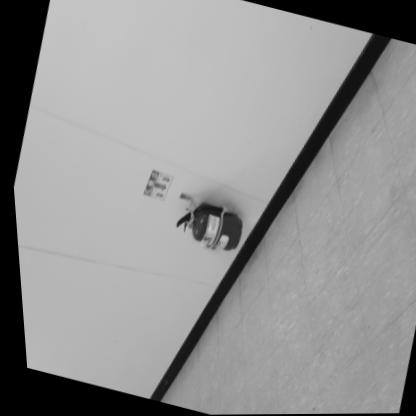FE: (165, 194, 245, 257)
